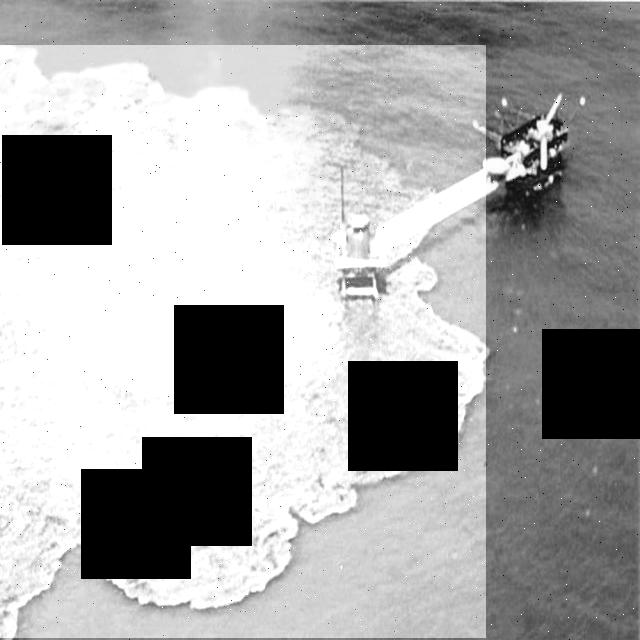oil spill: (0, 46, 486, 638)
